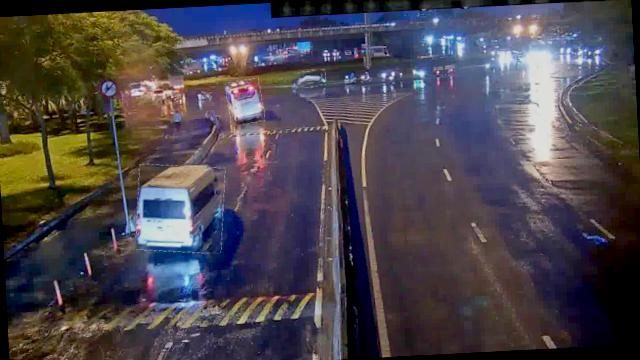Bus: (134, 162, 228, 256), (225, 78, 263, 126)
Car: (293, 69, 326, 88)
